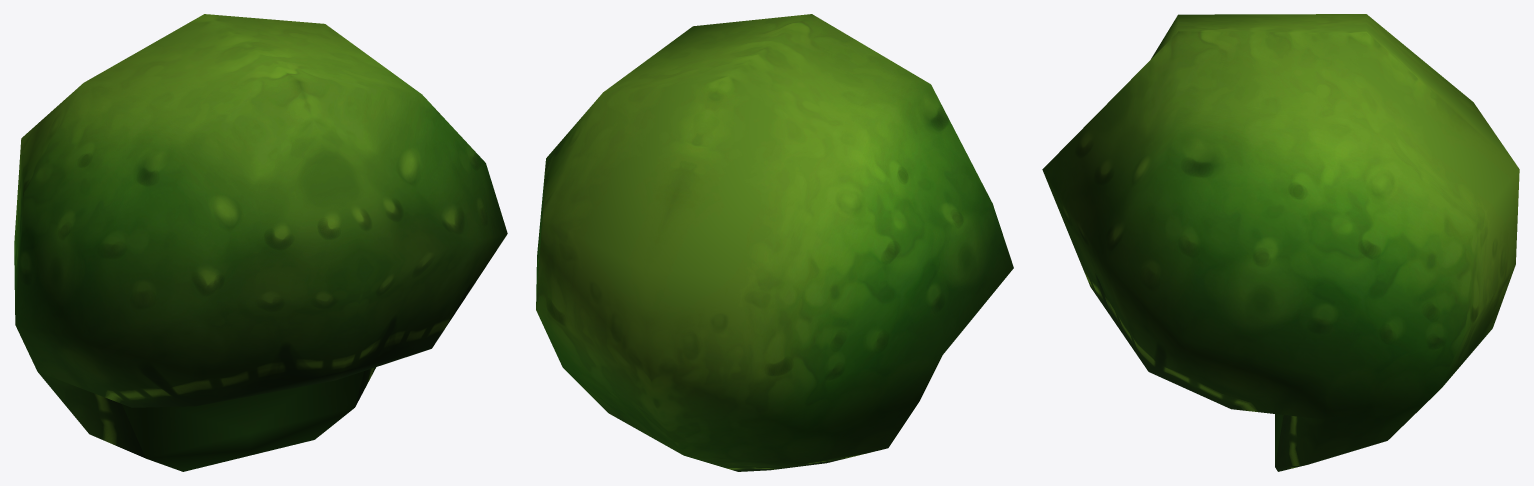
Rendered from character_Head02.FBX.
The picture shows the model from 3 angles, left to right: view 1: azimuth 30°, elevation 25°; view 2: azimuth 150°, elevation 25°; view 3: azimuth 270°, elevation 25°; orthographic projection. The views are drawn at different scales.
Parts seen in each view (by area): view 1: Sphere126; view 2: Sphere126; view 3: Sphere126.
Part boxes in pixels (x1,y1,x2,y2): Sphere126: (14,14,507,471); Sphere126: (536,14,1013,471); Sphere126: (1042,14,1519,471).
Size of the model in its own units: 49.62 by 46.45 by 48.48.
